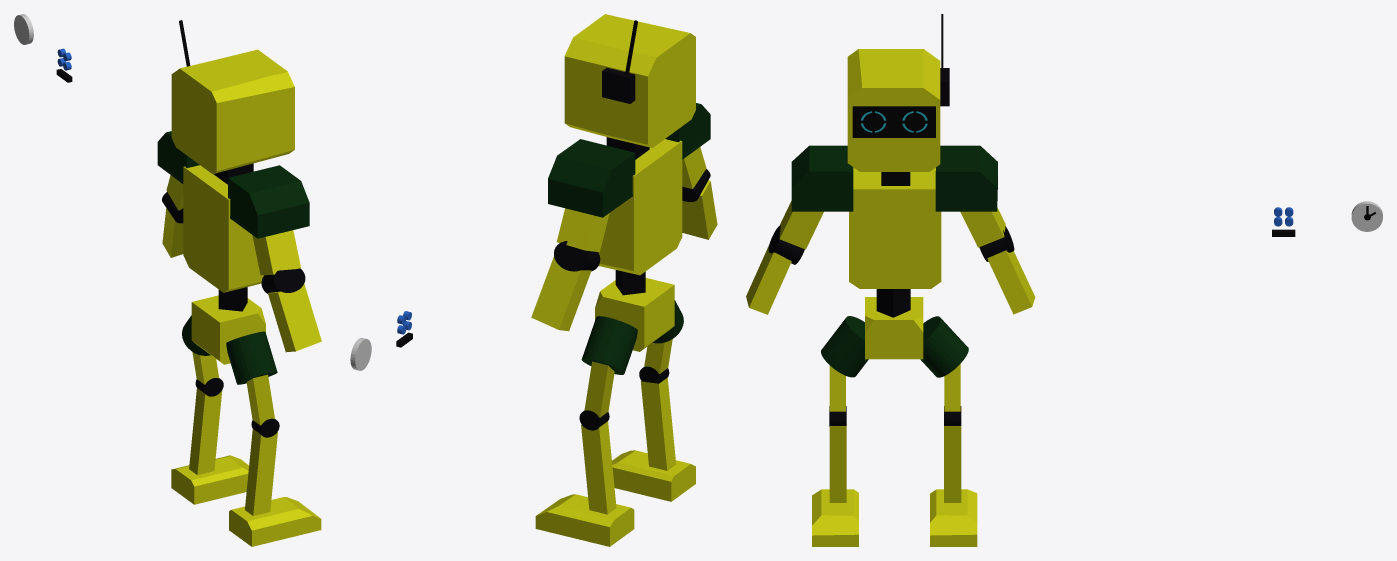
File: ROBOTkai2.obj
The picture shows the model from 3 angles, left to right: view 1: azimuth 30°, elevation 25°; view 2: azimuth 150°, elevation 25°; view 3: azimuth 270°, elevation 25°; orthographic projection. The views are drawn at different scales.
Parts seen in each view (by area): view 1: 立方体.011_立方体.013, 立方体.007_立方体.008, 立方体.016_立方体.023, 立方体.005_立方体.006, 立方体.014_立方体.016, 立方体.015_立方体.017, 立方体.009_立方体.011, 立方体.004_立方体.005, 立方体, 円柱.002, 立方体.008_立方体.010, 立方体.020_立方体.027 (+10 smaller); view 2: 立方体.011_立方体.013, 立方体.007_立方体.008, 立方体.020_立方体.027, 立方体.005_立方体.006, 立方体.015_立方体.017, 立方体.014_立方体.016, 立方体.012_立方体.014, 立方体, 立方体.004_立方体.005, 円柱.003_円柱.004, 立方体.013_立方体.015, 立方体.009_立方体.011 (+8 smaller); view 3: 立方体.007_立方体.008, 立方体.011_立方体.013, 立方体.020_立方体.027, 立方体.016_立方体.023, 立方体.005_立方体.006, 立方体.015_立方体.017, 立方体.014_立方体.016, 円柱.003_円柱.004, 円柱.002, 立方体.022_立方体.018, 立方体.012_立方体.014, 立方体.009_立方体.011 (+6 smaller).
Part boxes in pixels (left/top/right/bottom): 立方体.011_立方体.013: left=171, top=49, right=294, bottom=174; 立方体.007_立方体.008: left=183, top=165, right=263, bottom=292; 立方体.016_立方体.023: left=228, top=165, right=309, bottom=238; 立方体.005_立方体.006: left=191, top=295, right=265, bottom=364; 立方体.014_立方体.016: left=229, top=497, right=321, bottom=546; 立方体.015_立方体.017: left=171, top=455, right=248, bottom=504; 立方体.009_立方体.011: left=268, top=284, right=321, bottom=352; 立方体.004_立方体.005: left=189, top=388, right=222, bottom=474; 立方体: left=245, top=429, right=277, bottom=515; 円柱.002: left=226, top=331, right=277, bottom=384; 立方体.008_立方体.010: left=252, top=230, right=300, bottom=275; 立方体.020_立方体.027: left=157, top=131, right=199, bottom=183; 立方体.011_立方体.013: left=564, top=14, right=695, bottom=147; 立方体.007_立方体.008: left=598, top=139, right=682, bottom=275; 立方体.020_立方体.027: left=548, top=139, right=635, bottom=217; 立方体.005_立方体.006: left=595, top=278, right=674, bottom=351; 立方体.015_立方体.017: left=535, top=494, right=634, bottom=546; 立方体.014_立方体.016: left=612, top=450, right=695, bottom=501; 立方体.012_立方体.014: left=531, top=256, right=591, bottom=331; 立方体: left=640, top=377, right=675, bottom=470; 立方体.004_立方体.005: left=581, top=421, right=616, bottom=514; 円柱.003_円柱.004: left=581, top=316, right=637, bottom=374; 立方体.013_立方体.015: left=556, top=208, right=609, bottom=252; 立方体.009_立方体.011: left=682, top=180, right=717, bottom=239; 立方体.007_立方体.008: left=849, top=167, right=941, bottom=288; 立方体.011_立方体.013: left=847, top=49, right=940, bottom=171; 立方体.020_立方体.027: left=935, top=145, right=997, bottom=211; 立方体.016_立方体.023: left=791, top=145, right=853, bottom=211; 立方体.005_立方体.006: left=865, top=297, right=923, bottom=361; 立方体.015_立方体.017: left=930, top=489, right=977, bottom=546; 立方体.014_立方体.016: left=812, top=489, right=858, bottom=546; 円柱.003_円柱.004: left=920, top=316, right=968, bottom=377; 円柱.002: left=821, top=316, right=868, bottom=377; 立方体.022_立方体.018: left=852, top=106, right=935, bottom=137; 立方体.012_立方体.014: left=987, top=250, right=1035, bottom=314; 立方体.009_立方体.011: left=746, top=244, right=791, bottom=314.
Bounding box in the file's own units: 2.23 × 11.79 × 13.77.
